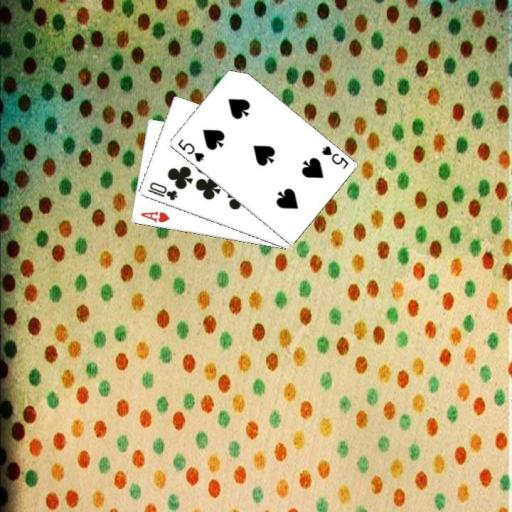10C: (145, 179, 179, 202)
5S: (318, 142, 350, 171), (174, 136, 206, 163)
AH: (137, 208, 171, 225)
